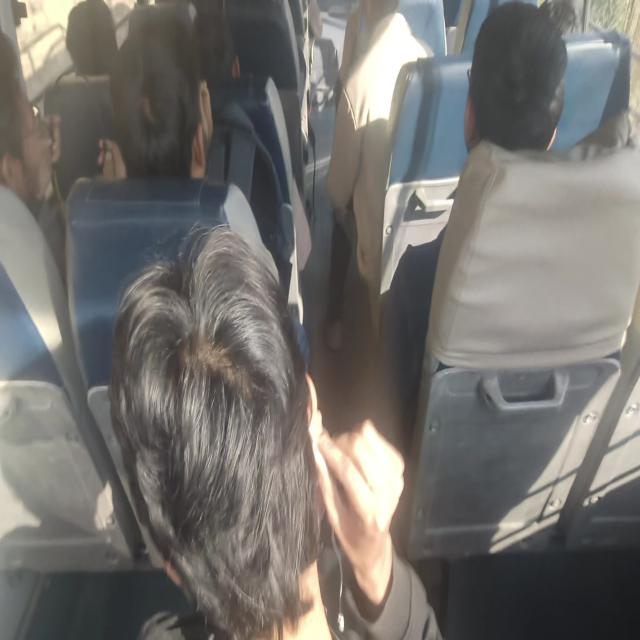person: (108, 221, 443, 638), (378, 0, 639, 449), (324, 0, 431, 355), (98, 4, 214, 181), (0, 29, 68, 290), (65, 0, 119, 78)
